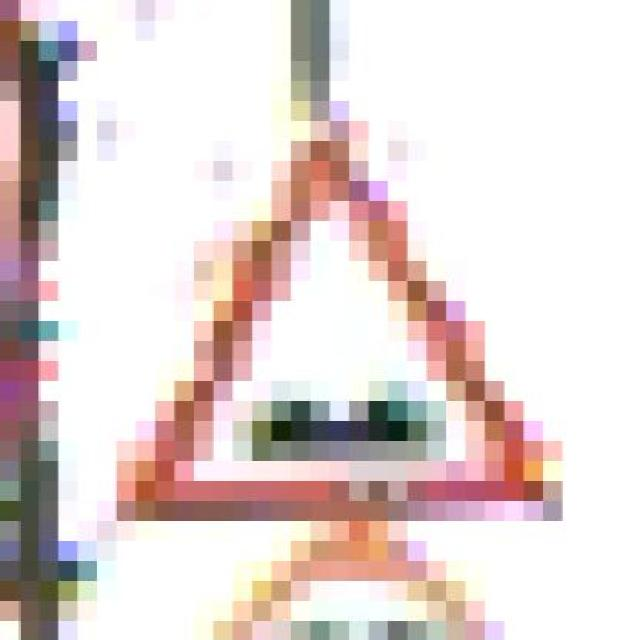Uneven Road: (108, 104, 554, 524)
